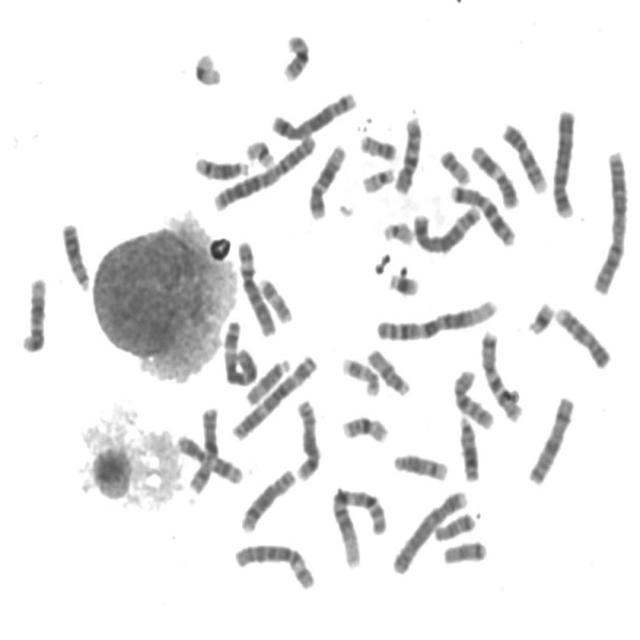A1: (371, 292, 500, 343), (326, 481, 389, 570)
A2: (209, 130, 320, 213), (587, 144, 631, 296)
A3: (227, 349, 320, 442), (218, 314, 260, 388)
B4: (388, 484, 470, 576), (548, 103, 578, 220)
B5: (267, 85, 359, 142), (408, 201, 482, 255)
C10: (448, 364, 496, 432), (389, 110, 425, 196)
C11: (172, 428, 244, 486), (466, 138, 520, 211)
C12: (304, 138, 348, 222), (16, 271, 48, 354)
C6: (230, 536, 317, 591), (233, 234, 278, 337)
C7: (444, 177, 518, 248), (476, 325, 525, 423)
C8: (236, 463, 297, 535), (290, 394, 322, 484)
C9: (550, 300, 614, 371), (498, 118, 548, 195)
D13: (56, 216, 92, 292), (454, 409, 482, 484)
D14: (388, 447, 451, 482), (190, 150, 250, 182)
D15: (240, 352, 293, 407), (362, 342, 412, 398)
E16: (337, 409, 391, 445), (278, 27, 312, 82)
E17: (336, 350, 382, 398), (254, 272, 294, 326)
E18: (429, 507, 477, 543), (438, 535, 488, 567)
F19: (188, 46, 224, 88), (241, 134, 277, 169)
F20: (434, 143, 472, 185), (355, 127, 398, 162)
G21: (522, 296, 556, 337), (384, 266, 422, 298)
G22: (358, 162, 397, 194), (378, 215, 416, 247)
X: (523, 390, 577, 487), (183, 400, 221, 496)
